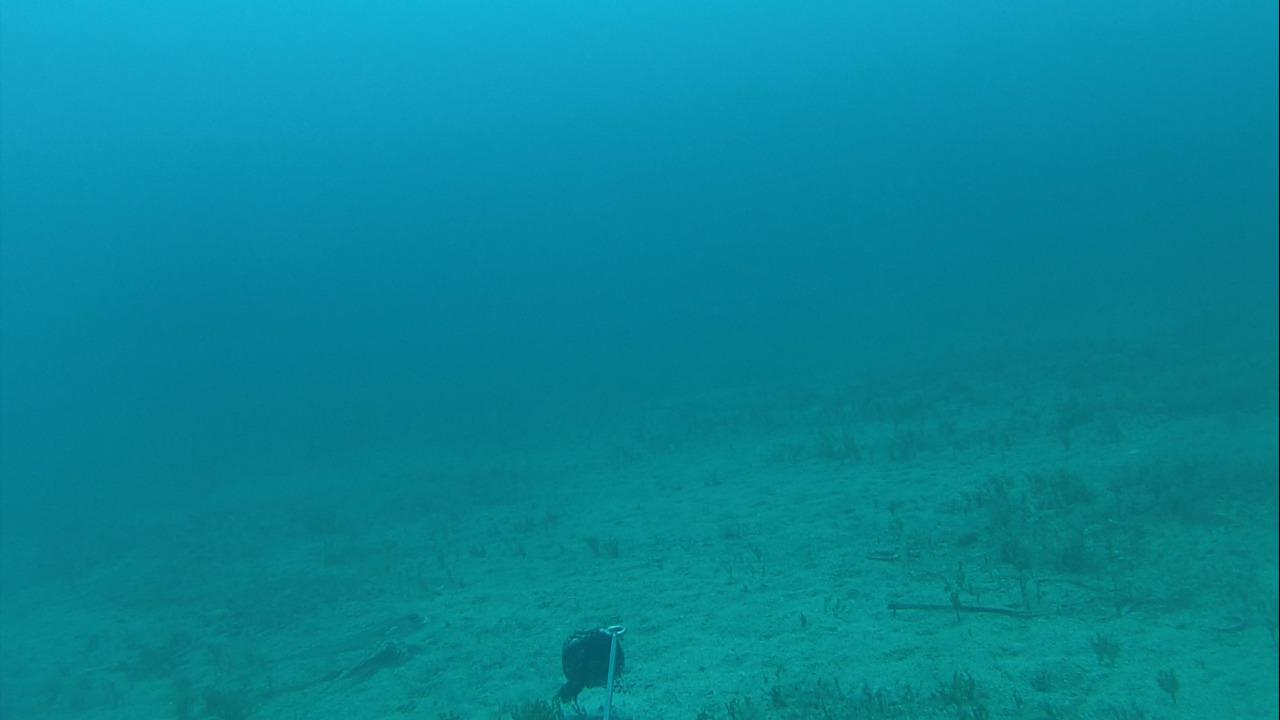dactylopterus: (230, 606, 430, 684)
